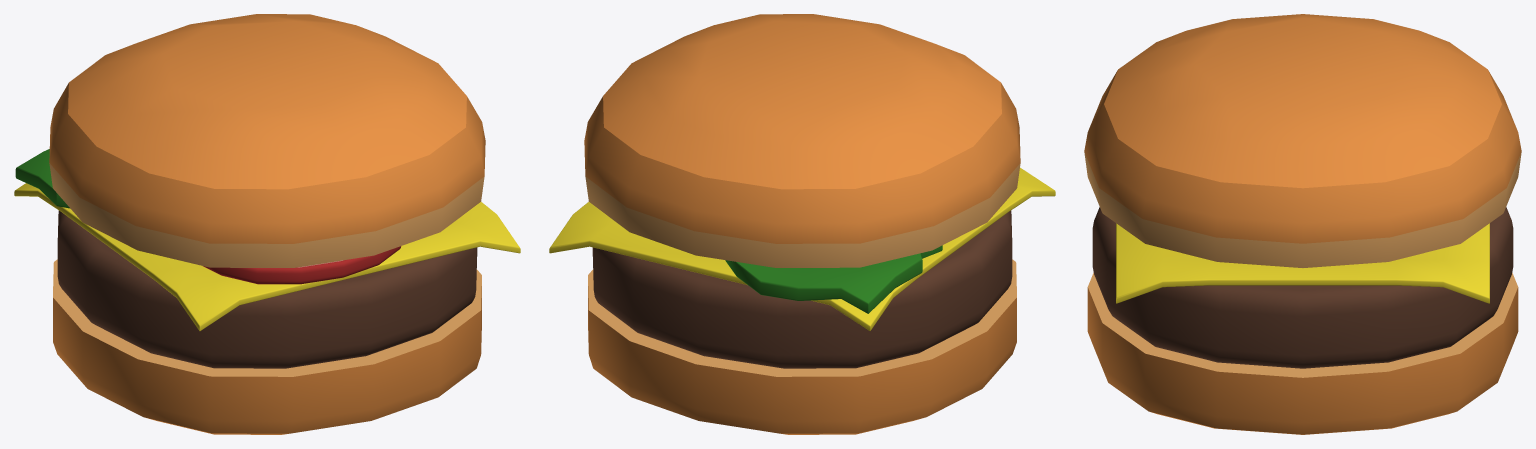
File: burger_devasa.fbx
3 renders of one model, left to right at view 1: azimuth 30°, elevation 25°; view 2: azimuth 150°, elevation 25°; view 3: azimuth 270°, elevation 25°, orthographic.
Visible parts, largest first — view 1: bread; view 2: bread; view 3: bread.
Part boxes in pixels (x1=…): bread: x1=14, y1=14, x2=520, y2=434; bread: x1=549, y1=14, x2=1055, y2=434; bread: x1=1084, y1=14, x2=1521, y2=434.
Size of the model in its own units: 186 by 135 by 186.
